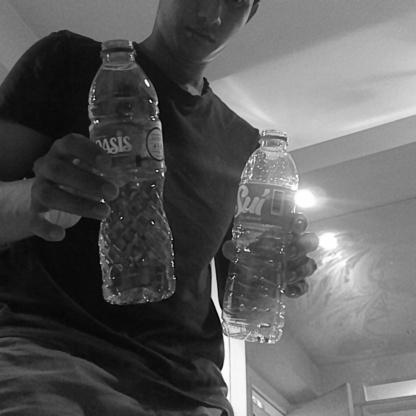plastic_bottles: (90, 38, 178, 308), (219, 130, 300, 345)
